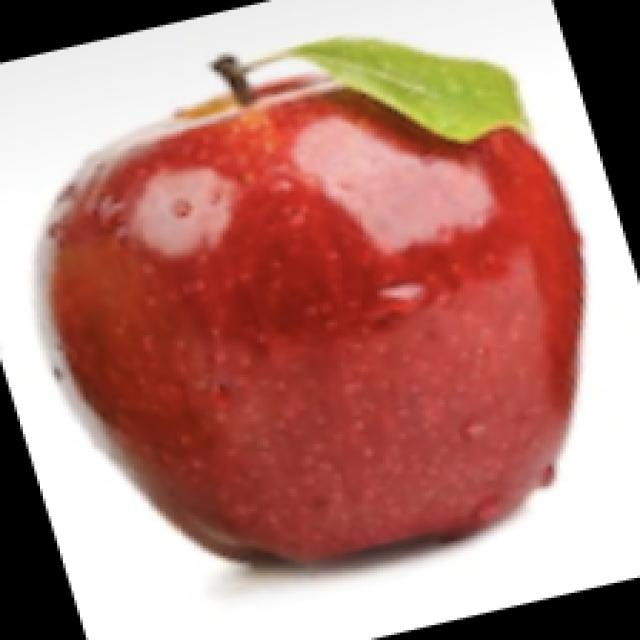Fresh Apple: (13, 59, 595, 578)
